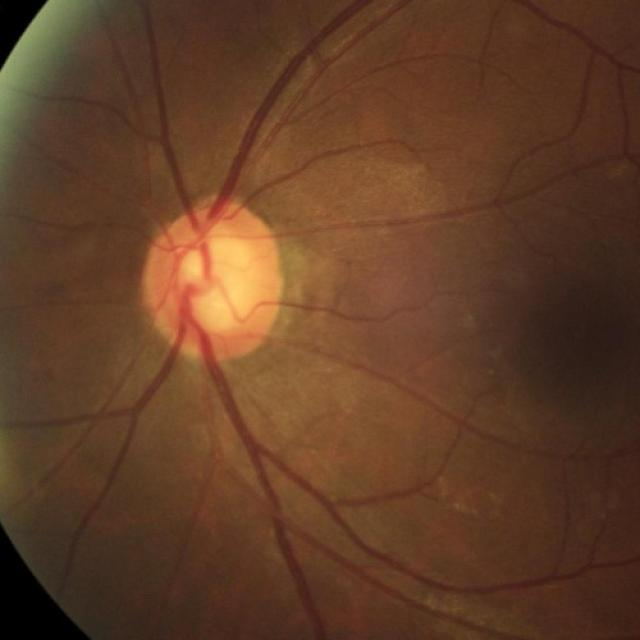OC: (178, 236, 256, 332)
OD: (142, 198, 283, 362)
